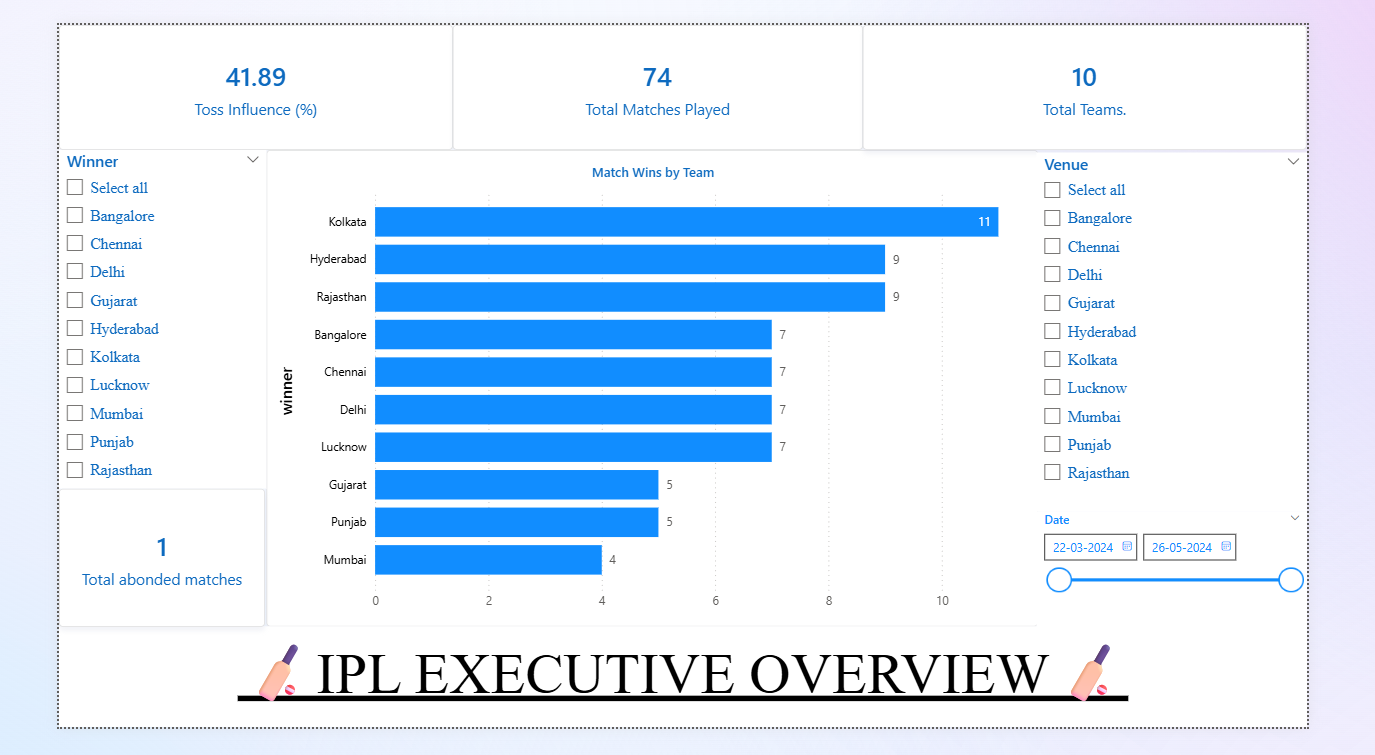

What the dashboard file says about the page in this screenshot:
{"tool":"powerbi","page":{"name":"Page 1","canvas":[1280,720],"ordinal":0},"visuals":[{"type":"card","fields":{"Values":["ipl2024 (2).Toss Win %"]},"box":[0,0,404.3,128.1],"z":0},{"type":"card","fields":{"Values":["ipl2024 (2).Total Matches"]},"box":[404.3,0,420.5,128.1],"z":1000},{"type":"clusteredBarChart","title":"Match Wins by Team","fields":{"Category":["ipl2024 (2).winner"],"Y":["CountNonNull(ipl2024 (2).winner)"]},"box":[212.7,128.1,791.2,488.9],"z":2000},{"type":"card","fields":{"Values":["ipl2024 (2).Total Team (Valid)"]},"box":[824.7,0,455.3,128.2],"z":3000},{"type":"slicer","fields":{"Values":["ipl2024 (2).date"]},"box":[1002.6,498.8,277.4,118.2],"z":4000},{"type":"slicer","fields":{"Values":["ipl2024 (2).winner"]},"box":[0,128.6,212.9,347.1],"z":5000},{"type":"slicer","fields":{"Values":["ipl2024 (2).venue"]},"box":[1002.6,130.6,277.4,368.2],"z":6000},{"type":"textbox","box":[0,616.7,1280,103.3],"z":7000},{"type":"card","fields":{"Values":["ipl2024 (2).Total abonded matches"]},"box":[0,475.7,211.4,141.4],"z":8000}]}

Visuals, with their boxes in screenshot pixels (x1, y1, x2, y2), scaled from the page's 1280x720 canvas onto the 1375x755 screenshot:
card - ipl2024 (2).Toss Win %: bbox=(0, 0, 434, 134)
card - ipl2024 (2).Total Matches: bbox=(434, 0, 886, 134)
"Match Wins by Team" clusteredBarChart: bbox=(228, 134, 1078, 647)
card - ipl2024 (2).Total Team (Valid): bbox=(886, 0, 1374, 134)
slicer - ipl2024 (2).date: bbox=(1077, 523, 1374, 647)
slicer - ipl2024 (2).winner: bbox=(0, 135, 229, 499)
slicer - ipl2024 (2).venue: bbox=(1077, 137, 1374, 523)
textbox: bbox=(0, 647, 1374, 754)
card - ipl2024 (2).Total abonded matches: bbox=(0, 499, 227, 647)
